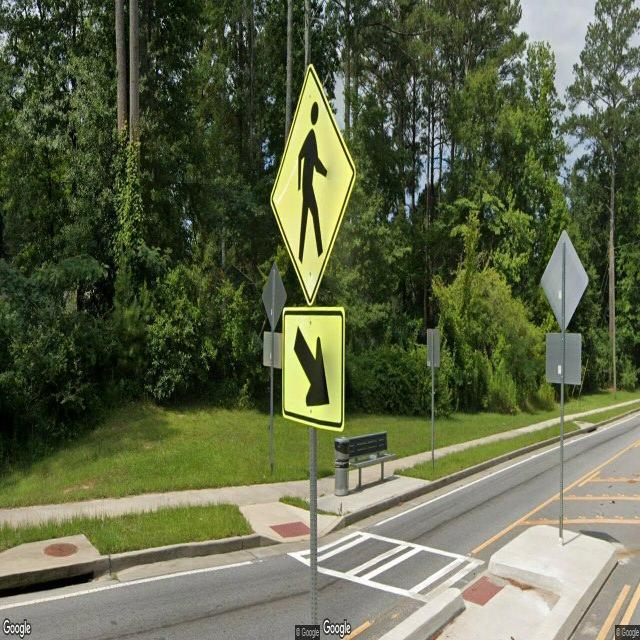seating: (336, 432, 392, 490)
trash_can: (333, 439, 349, 496)
